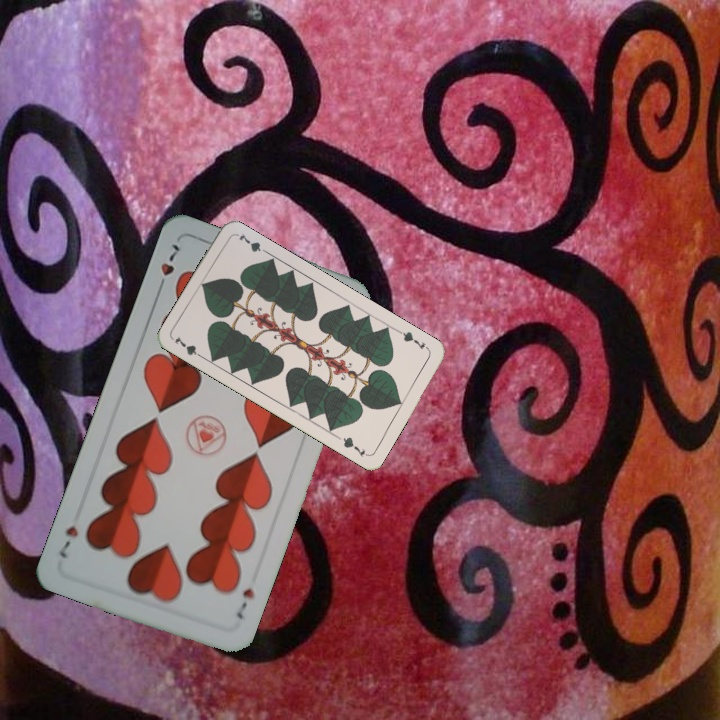G7: (170, 332, 207, 361), (395, 327, 432, 353)
H7: (154, 239, 184, 295), (232, 583, 257, 622)
